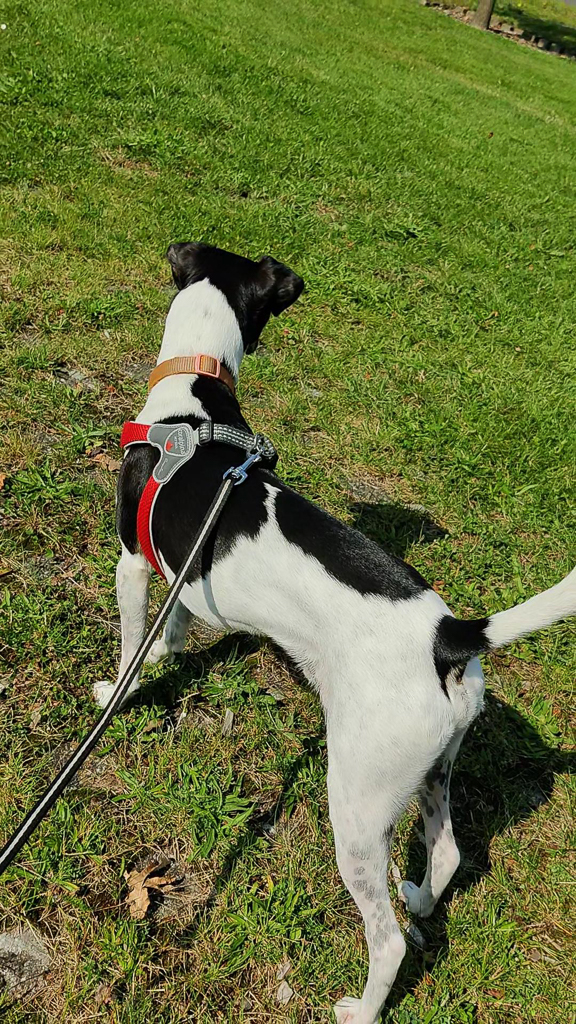Dog: (82, 213, 575, 1023)
